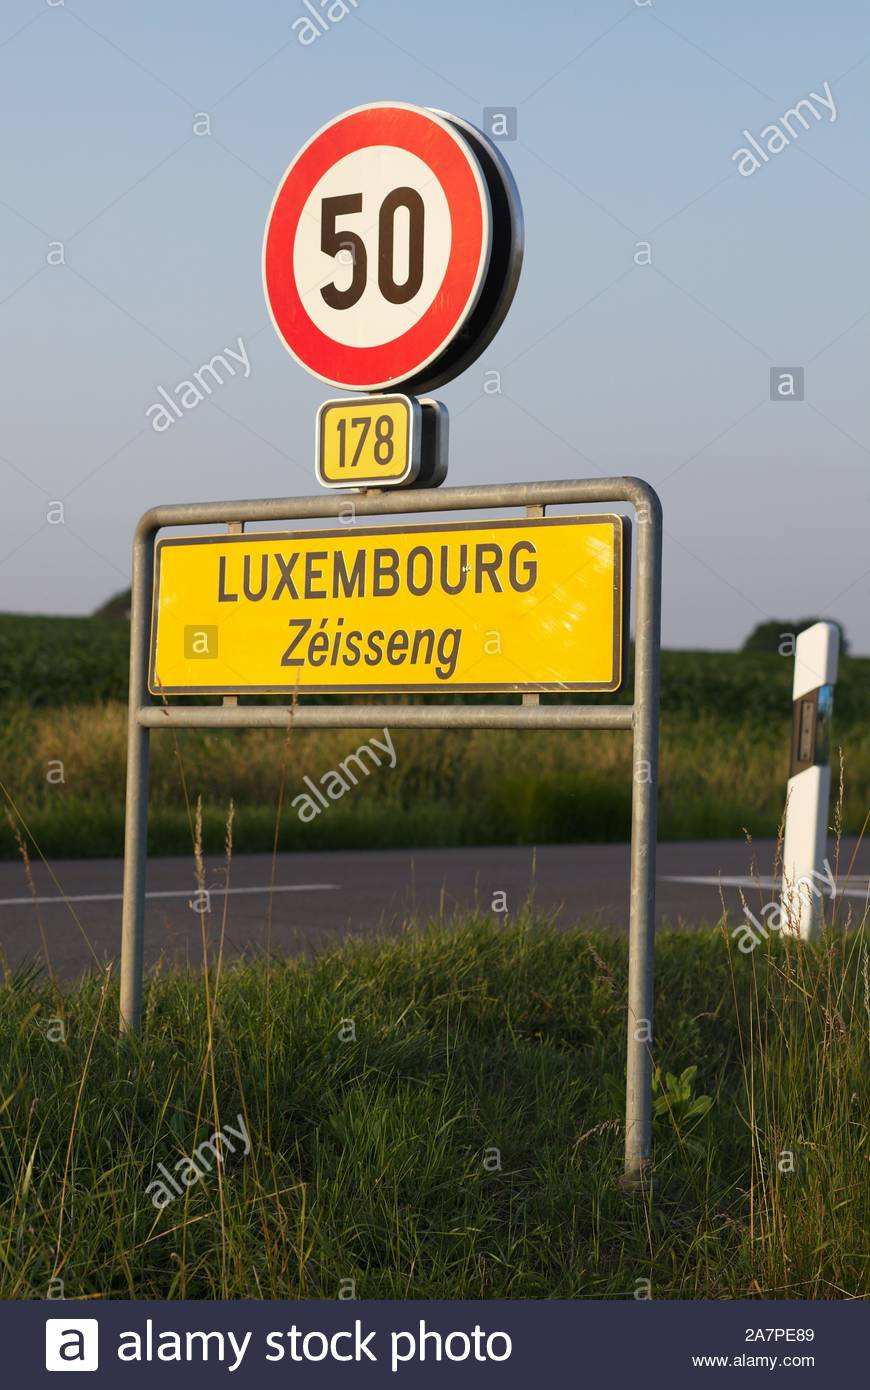speed_limit_50: (260, 102, 498, 392)
